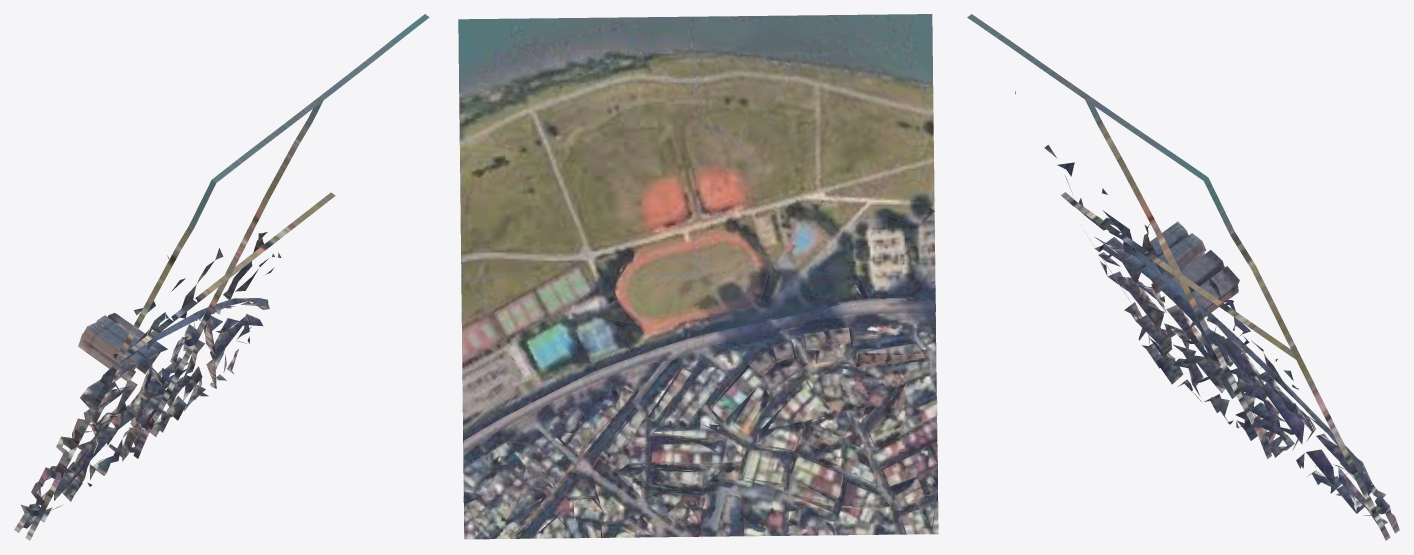
3 renders of one model, left to right at view 1: azimuth 30°, elevation 25°; view 2: azimuth 150°, elevation 25°; view 3: azimuth 270°, elevation 25°, orthographic. The views are drawn at different scales.
Size of the model in its own units: 622 by 553 by 530.
Materials: 2 (2 with a texture image).
